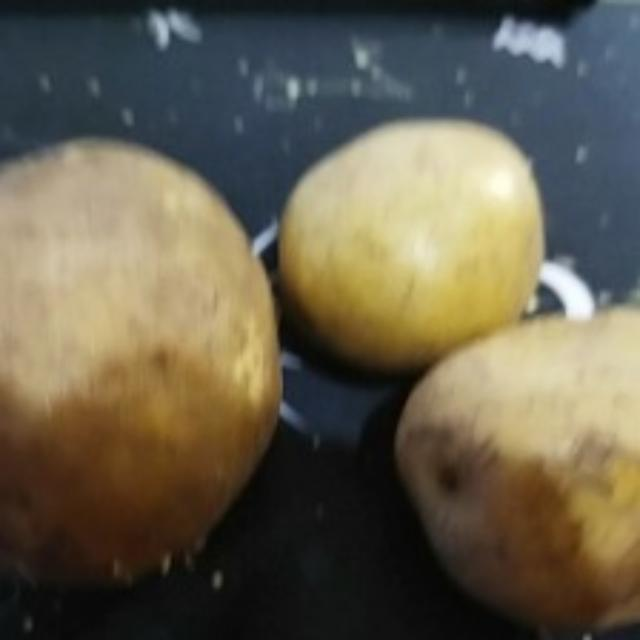Damaged potato: (1, 128, 287, 598), (394, 296, 640, 634)
Potato: (277, 109, 553, 371)
